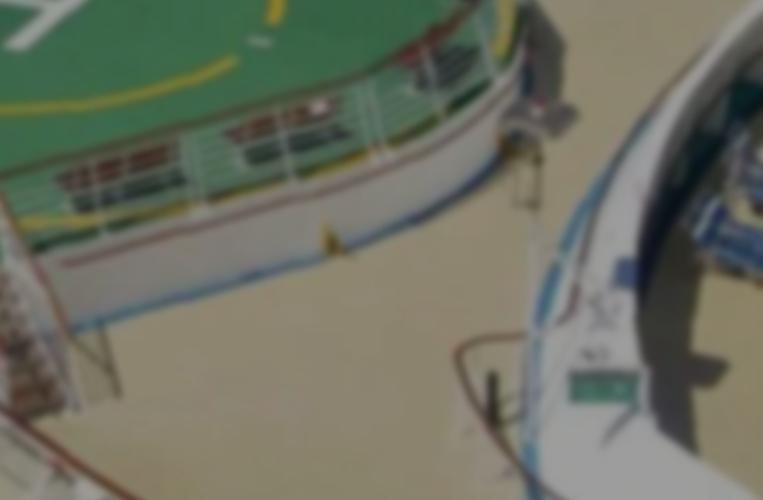Apron: (1, 1, 297, 131)
